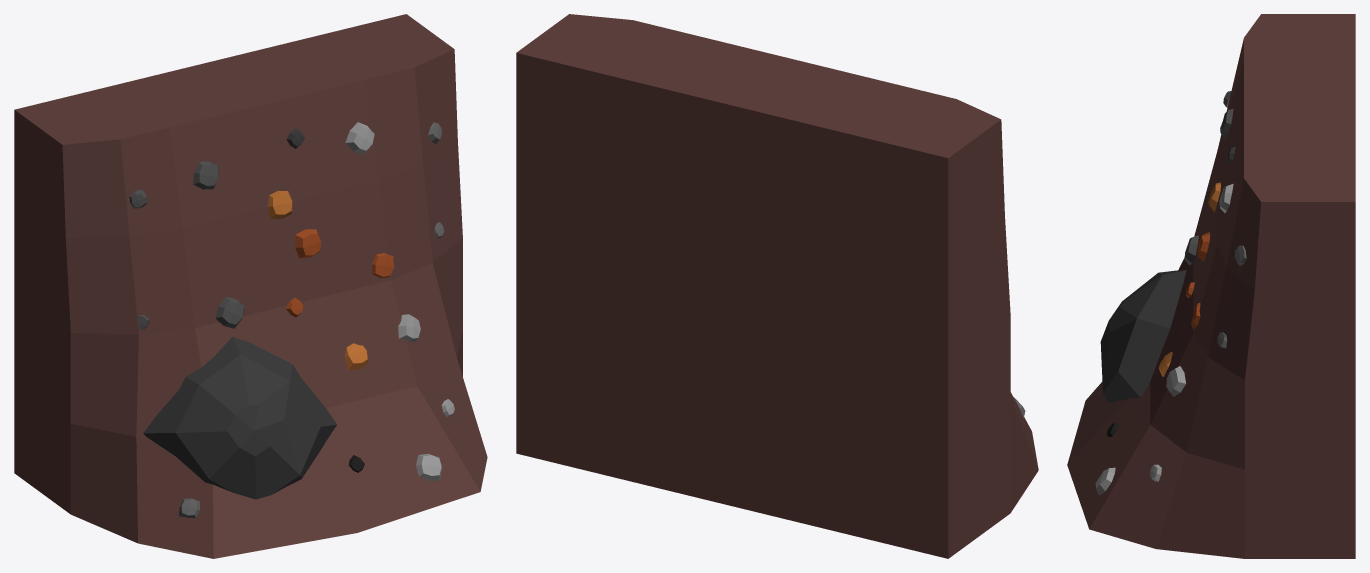
File: CaveIn.fbx
3 renders of one model, left to right at view 1: azimuth 30°, elevation 25°; view 2: azimuth 150°, elevation 25°; view 3: azimuth 270°, elevation 25°, orthographic. The views are drawn at different scales.
Visible parts, largest first — view 1: CaveIn; view 2: CaveIn; view 3: CaveIn.
Part boxes in pixels (x1,y1,x2,y2): CaveIn: [14, 14, 487, 558]; CaveIn: [516, 14, 1038, 558]; CaveIn: [1067, 14, 1355, 558].
Bounding box in the file's own units: 2.55 × 2.32 × 1.65.
1 material, 1 textured.
